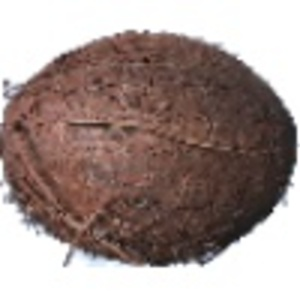coco: (1, 30, 298, 268)
